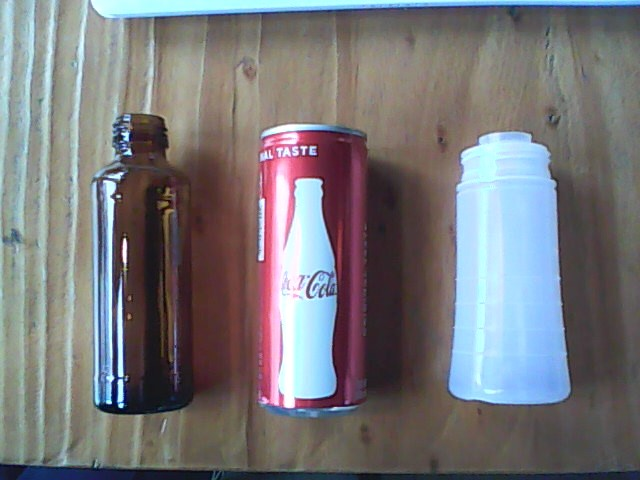Can: (253, 119, 373, 420)
Glass: (88, 113, 200, 417)
Plastic: (440, 125, 577, 409)
